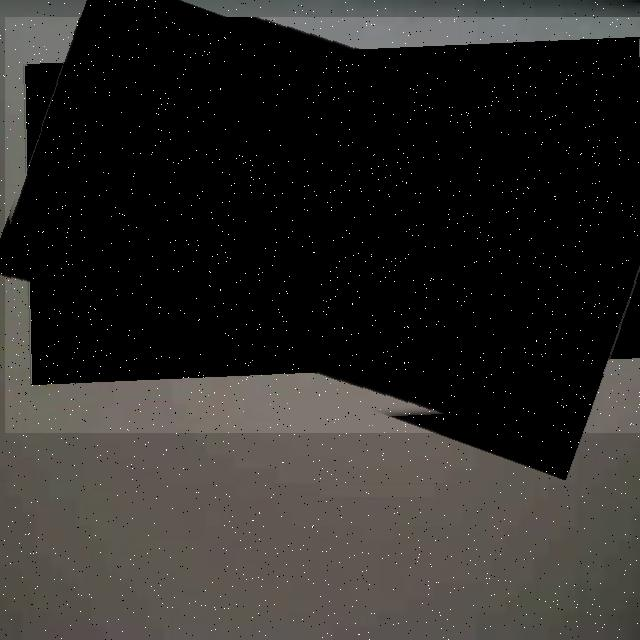dua puluh ribu rupiah: (5, 17, 640, 433)
